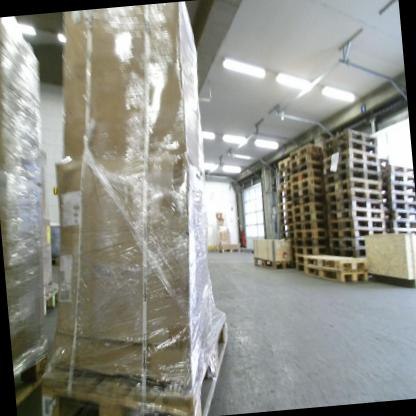pallet: (33, 284, 238, 416), (13, 338, 57, 413), (303, 247, 368, 279), (306, 261, 369, 285), (321, 124, 377, 151), (322, 146, 380, 169), (322, 166, 382, 188), (321, 156, 379, 178), (325, 186, 383, 208), (327, 203, 383, 225), (324, 176, 381, 196), (328, 222, 385, 242), (321, 136, 378, 155), (326, 196, 383, 215), (327, 214, 384, 233), (251, 248, 293, 273), (38, 280, 65, 318), (288, 141, 323, 164), (327, 234, 366, 252), (288, 159, 324, 178), (290, 175, 324, 194), (289, 152, 322, 171), (383, 160, 413, 178), (386, 180, 415, 198), (293, 234, 327, 249), (388, 205, 416, 223), (291, 201, 324, 216), (292, 217, 325, 232), (386, 190, 415, 206), (291, 170, 323, 184), (294, 245, 328, 258), (293, 226, 326, 239), (386, 171, 414, 186), (291, 184, 323, 197), (292, 210, 324, 223), (387, 199, 416, 212), (292, 193, 323, 205), (291, 192, 324, 202), (294, 253, 317, 267), (390, 227, 416, 239), (389, 218, 416, 229), (218, 246, 242, 257), (276, 156, 295, 169), (296, 260, 308, 276), (377, 157, 391, 170), (49, 252, 61, 267), (278, 165, 293, 177), (279, 170, 291, 183), (277, 187, 292, 197), (279, 223, 293, 233), (278, 202, 293, 211), (278, 210, 294, 218), (278, 194, 292, 203), (279, 179, 292, 188), (279, 217, 293, 225), (280, 231, 294, 239)
